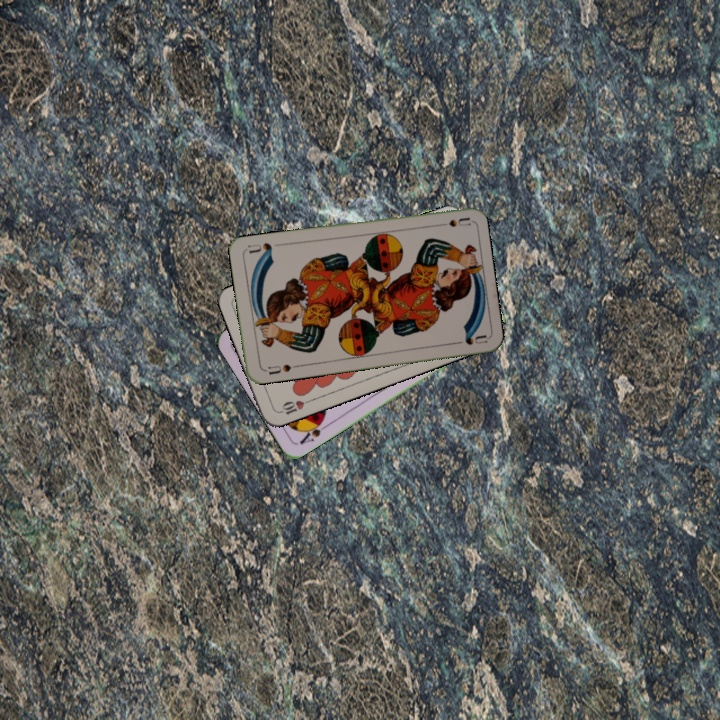H10: (275, 395, 314, 417)
SA: (295, 415, 331, 447)
SU: (430, 214, 471, 229), (264, 360, 300, 377)
